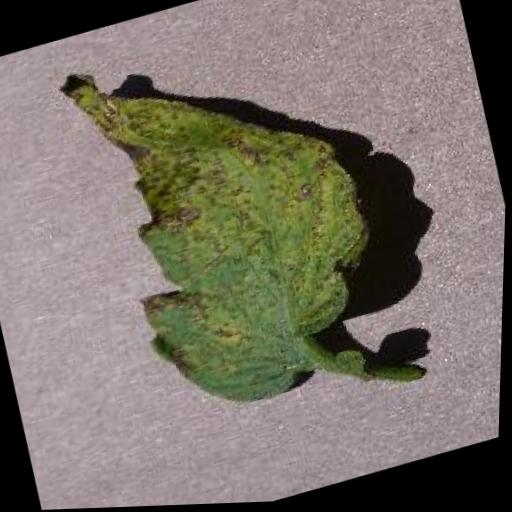Septoria: (51, 0, 412, 442)
